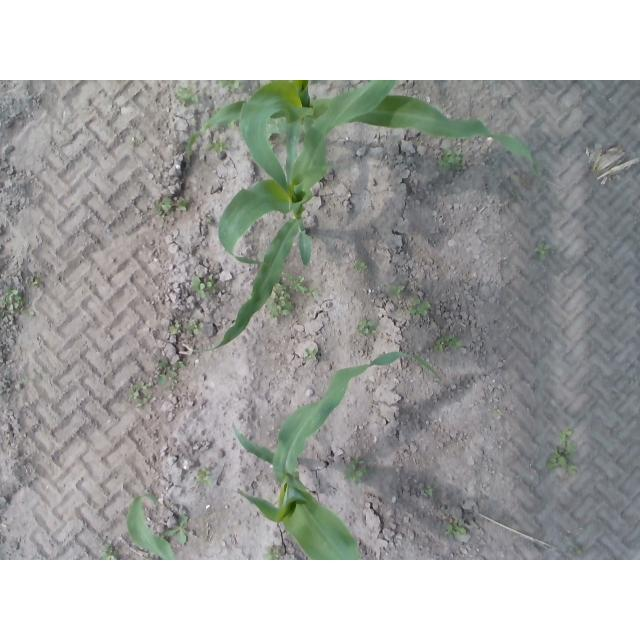Maize: (129, 350, 442, 560), (189, 81, 395, 351), (187, 80, 533, 172), (127, 493, 174, 560)
Weeds: (547, 447, 577, 474), (166, 515, 190, 545), (273, 291, 296, 318), (156, 357, 178, 384), (439, 148, 465, 168), (192, 277, 215, 298), (347, 461, 366, 484), (285, 274, 308, 292), (161, 198, 189, 212), (438, 337, 462, 352), (6, 289, 21, 311), (411, 299, 430, 315), (444, 523, 467, 535), (181, 88, 199, 103), (133, 380, 147, 398), (358, 321, 374, 336), (535, 242, 549, 259), (102, 545, 118, 559), (199, 469, 214, 483), (224, 80, 241, 92), (210, 140, 227, 152), (392, 286, 408, 298), (188, 323, 204, 334), (170, 322, 182, 335), (355, 261, 369, 272), (265, 547, 280, 557), (569, 545, 582, 556), (560, 429, 572, 440), (31, 279, 45, 288), (306, 287, 318, 297), (308, 351, 321, 360), (136, 398, 148, 407), (426, 483, 435, 495), (177, 362, 188, 371)
